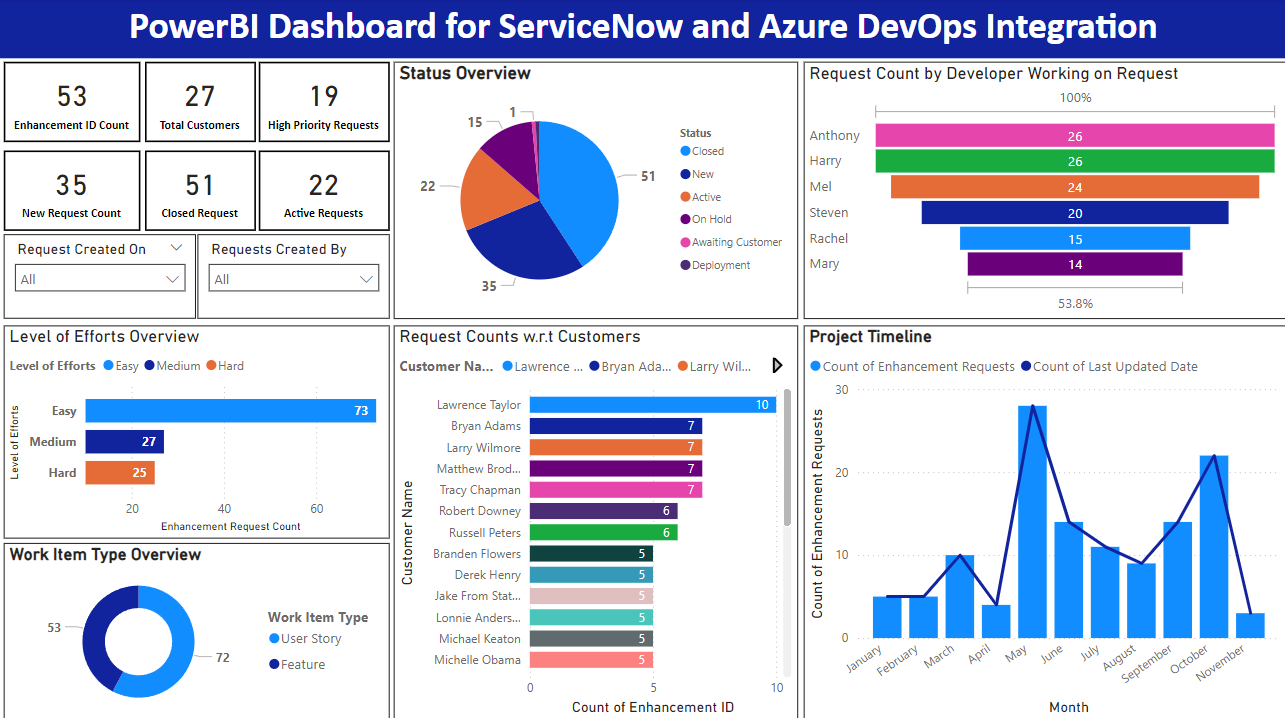

The dashboard page shown, as its layout file describes it:
{"tool":"powerbi","page":{"name":"Dashboard","canvas":[1280,720],"ordinal":0},"visuals":[{"type":"textbox","box":[0,0,1280,60],"z":0},{"type":"card","title":"Total Enhancement Requests","fields":{"Values":["Source Table.Enhancement ID"]},"box":[4,64,136,80],"z":1000},{"type":"card","title":"Total Enhancement Requests","fields":{"Values":["Source Table.Customer Name"]},"box":[144,64,110,80],"z":2000},{"type":"card","title":"Total Enhancement Requests","fields":{"Values":["Source Table.Count of Enhancement ID for High"]},"box":[258,64,130,80],"z":3000},{"type":"pieChart","title":"Status Overview","fields":{"Category":["Source Table.Status"],"Y":["Source Table.Enhancement ID"]},"box":[392,64,402,256],"z":4000},{"type":"donutChart","title":"Work Item Type Overview","fields":{"Y":["Source Table.Enhancement ID"],"Category":["Source Table.Work Item Type"]},"box":[4,542,384,178],"z":5000},{"type":"card","title":"Total Enhancement Requests","fields":{"Values":["Source Table.Count of Enhancement ID for New"]},"box":[4,152,136,80],"z":6000},{"type":"card","title":"Total Enhancement Requests","fields":{"Values":["Source Table.Count of Enhancement ID for Closed"]},"box":[144,152,110,80],"z":7000},{"type":"card","title":"Total Enhancement Requests","fields":{"Values":["Source Table.Count of Enhancement ID for Active"]},"box":[258,152,130,80],"z":8000},{"type":"barChart","title":"Level of Efforts Overview","fields":{"Category":["Source Table.Level of Effort"],"Y":["Source Table.Enhancement ID"],"Series":["Source Table.Level of Effort"]},"box":[4,326,384,212],"z":9000},{"type":"barChart","title":"Request Counts w.r.t Customers","fields":{"Category":["Source Table.Customer Name"],"Y":["Source Table.Enhancement ID"],"Series":["Source Table.Customer Name"]},"box":[392,326,402,394],"z":10000},{"type":"funnel","fields":{"Category":["Source Table.Developer Working on Request"],"Y":["Source Table.DeveloperRequestCount"]},"box":[800,64,480,256],"z":11000},{"type":"slicer","fields":{"Values":["Source Table.Created Date.Variation.Date Hierarchy.Year","Source Table.Created Date.Variation.Date Hierarchy.Month"]},"box":[4.3,235.7,191.4,84.3],"z":11001},{"type":"lineClusteredColumnComboChart","title":"Project Timeline","fields":{"Category":["Source Table.Created Date.Variation.Date Hierarchy.Month"],"Y":["Source Table.Enhancement ID"],"Y2":["Source Table.Last Updated Date"]},"box":[800,326,480,394],"z":11002},{"type":"slicer","fields":{"Values":["Source Table.Customer Name"]},"box":[197.1,235.7,191.4,84.3],"z":11003}]}

Visuals, with their boxes in screenshot pixels (x1, y1, x2, y2), scaled from the page's 1280x720 canvas onto the 1285x718 screenshot:
textbox: [left=0, top=0, right=1284, bottom=60]
"Total Enhancement Requests" card: [left=4, top=64, right=141, bottom=144]
"Total Enhancement Requests" card: [left=145, top=64, right=255, bottom=144]
"Total Enhancement Requests" card: [left=259, top=64, right=390, bottom=144]
"Status Overview" pieChart: [left=394, top=64, right=797, bottom=319]
"Work Item Type Overview" donutChart: [left=4, top=540, right=390, bottom=717]
"Total Enhancement Requests" card: [left=4, top=152, right=141, bottom=231]
"Total Enhancement Requests" card: [left=145, top=152, right=255, bottom=231]
"Total Enhancement Requests" card: [left=259, top=152, right=390, bottom=231]
"Level of Efforts Overview" barChart: [left=4, top=325, right=390, bottom=537]
"Request Counts w.r.t Customers" barChart: [left=394, top=325, right=797, bottom=717]
funnel - Source Table.Developer Working on Request x Source Table.DeveloperRequestCount: [left=803, top=64, right=1284, bottom=319]
slicer - Source Table.Created Date.Variation.Date Hierarchy.Year x Source Table.Created Date.Variation.Date Hierarchy.Month: [left=4, top=235, right=196, bottom=319]
"Project Timeline" lineClusteredColumnComboChart: [left=803, top=325, right=1284, bottom=717]
slicer - Source Table.Customer Name: [left=198, top=235, right=390, bottom=319]
